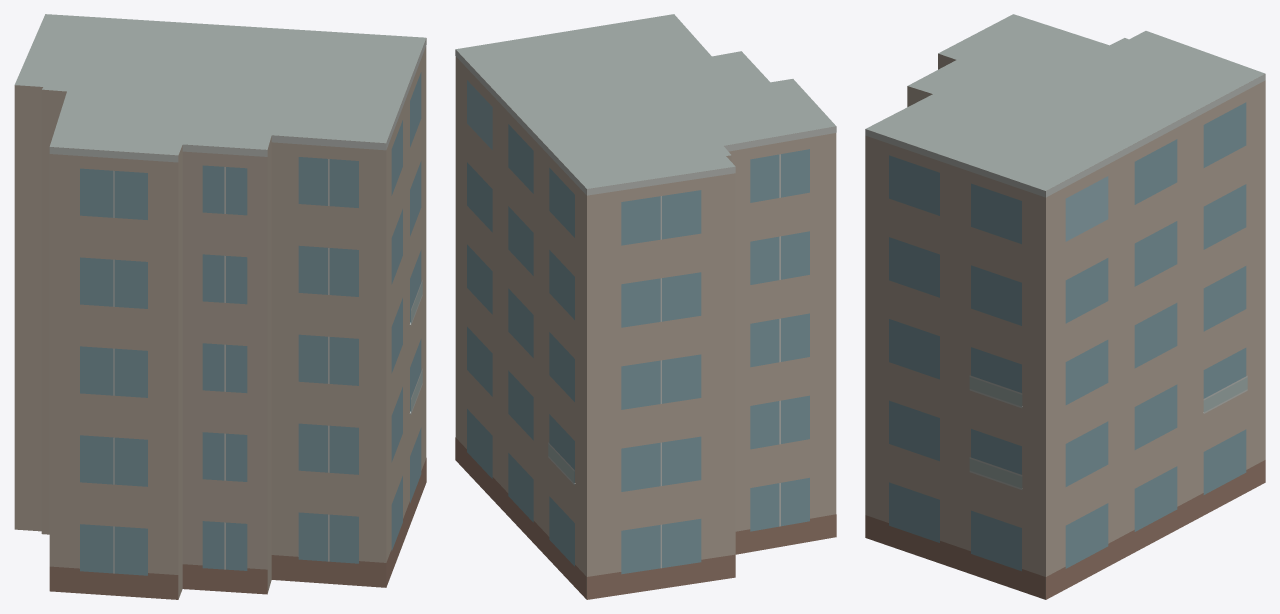
Rendered from survey-upis-32501235.glb.
The picture shows the model from 3 angles, left to right: view 1: azimuth 30°, elevation 25°; view 2: azimuth 150°, elevation 25°; view 3: azimuth 270°, elevation 25°; orthographic projection. The views are drawn at different scales.
Visible parts, largest first — view 1: survey-upis-32501235.tmp; view 2: survey-upis-32501235.tmp; view 3: survey-upis-32501235.tmp.
Part boxes in pixels (x1=…): survey-upis-32501235.tmp: x1=14, y1=14, x2=426, y2=599; survey-upis-32501235.tmp: x1=455, y1=14, x2=836, y2=599; survey-upis-32501235.tmp: x1=865, y1=14, x2=1265, y2=599.
Bounding box in the file's own units: 14.17 × 15.25 × 13.54.
